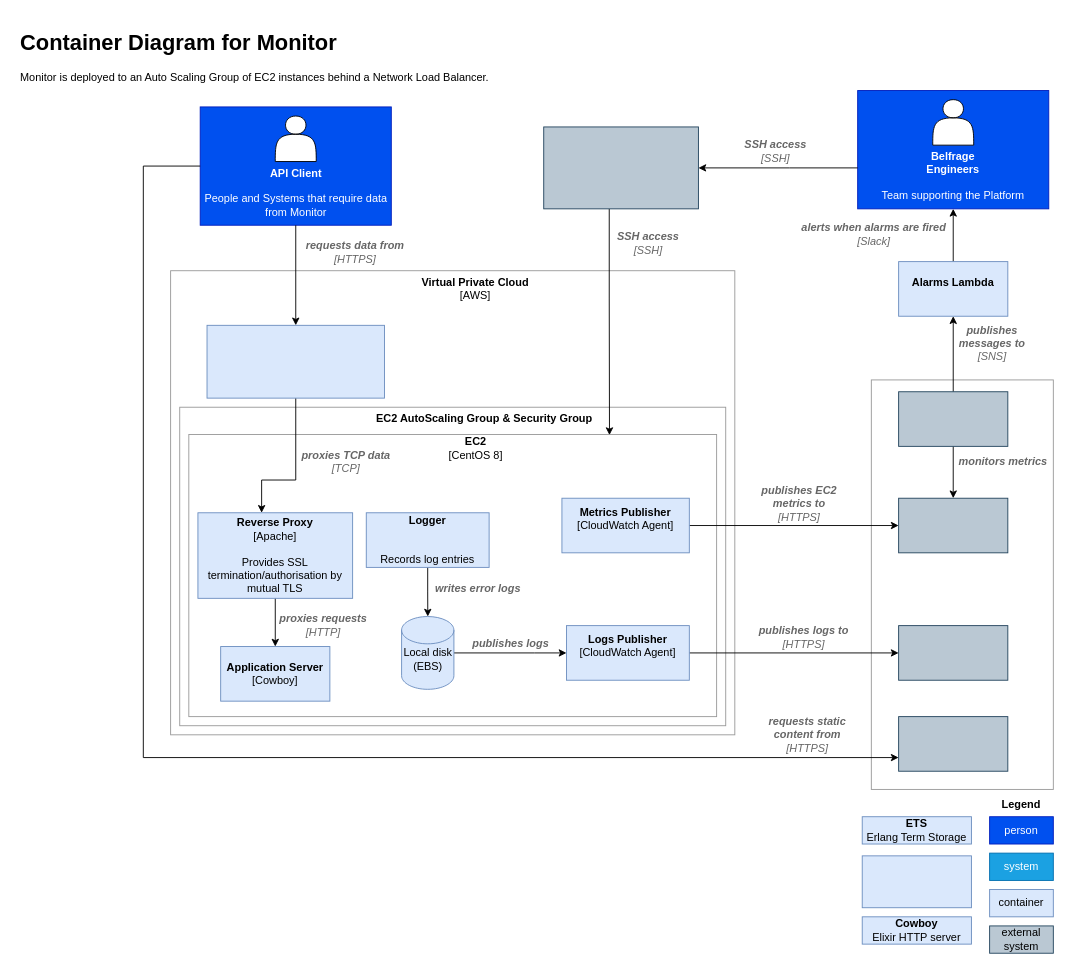
Image size: 1069x969. Some labels were removed from this diagram. Each missing label, with the centre of its shape:
"AWS CloudWatch Alarms" belongs at (953,418).
"AWS CloudWatch Logs" belongs at (953,652).
"AWS CloudWatch Metrics" belongs at (953,525).
"AWS S3" belongs at (953,743).
"Cosmos Bastions Allows secure access to EC2 instances managed by Cosmos" belongs at (620,167).
"GenServer Elixir Process running in memory" belongs at (916,881).
"Load Balancer [AWS NLB] Routes incoming requests to hosts" belongs at (295,361).
